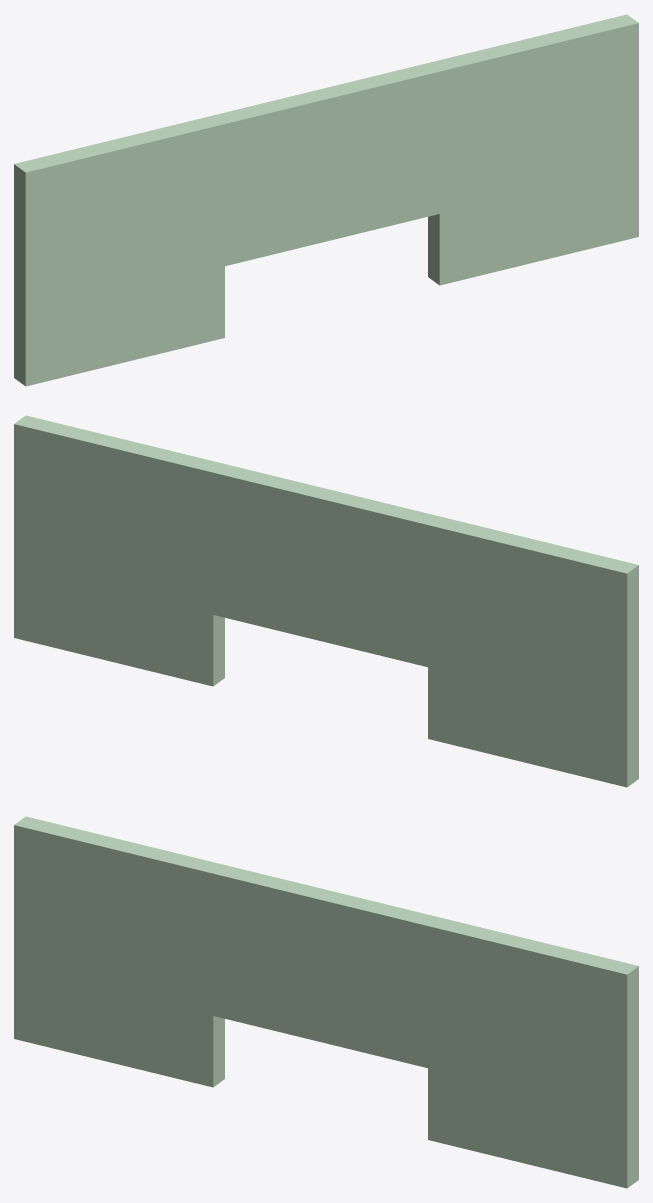
3 views of the same model, one above another, from view 1: azimuth 30°, elevation 25°; view 2: azimuth 150°, elevation 25°; view 3: azimuth 330°, elevation 25° (orthographic).
Visible parts, largest first — view 1: <组件#50>_1; view 2: <组件#50>_1; view 3: <组件#50>_1.
Boxes of the visible parts, x1,y1,x2,y2 form: <组件#50>_1: (14, 14, 638, 386); <组件#50>_1: (14, 415, 638, 787); <组件#50>_1: (14, 816, 638, 1188).
Bounding box in the file's own units: 118 × 39.37 × 3.94.
